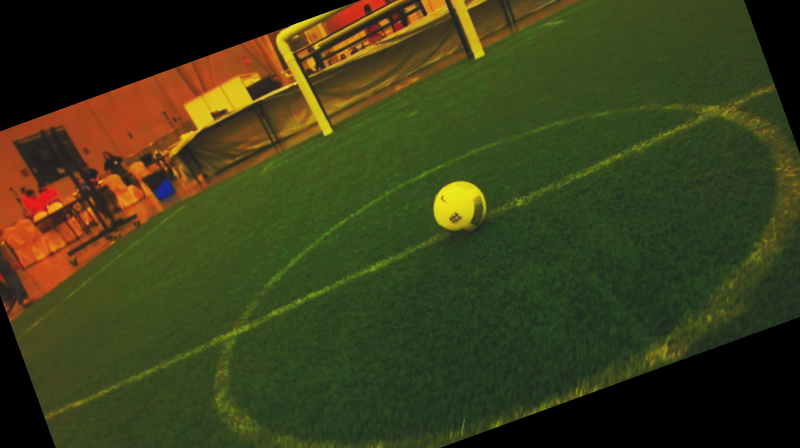post: (313, 116, 341, 143), (465, 39, 493, 66)
